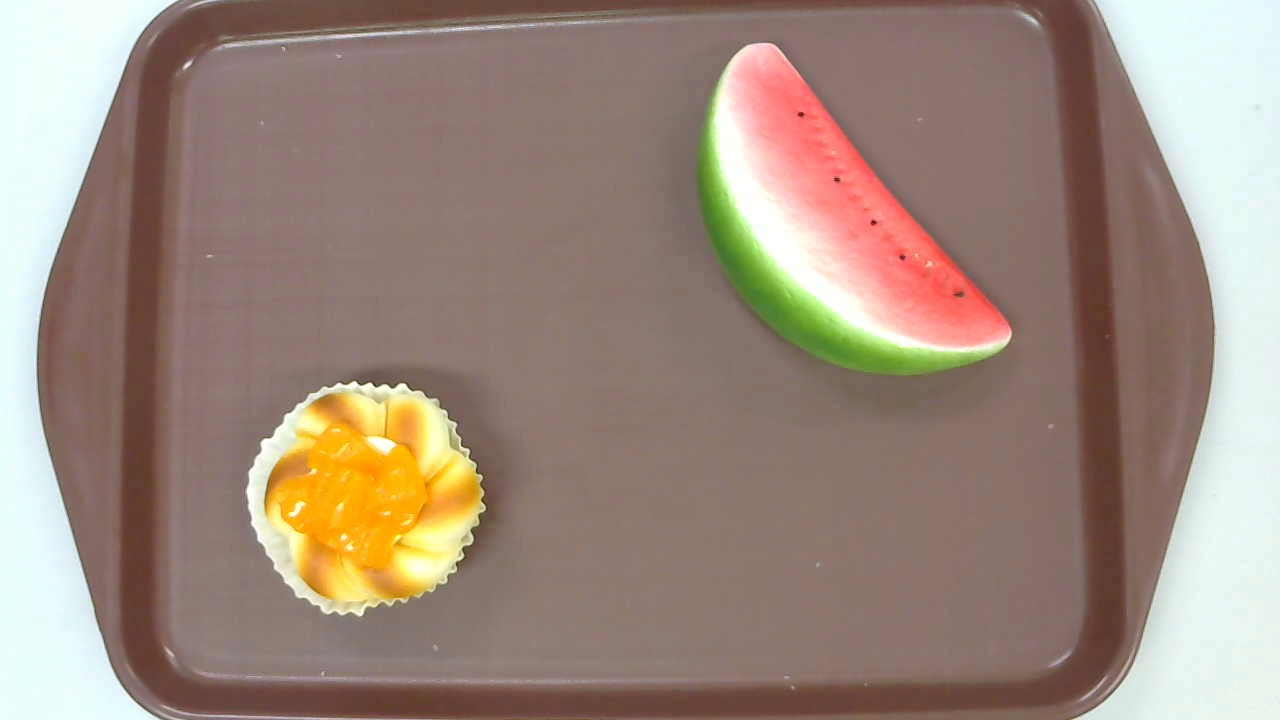mango tart: (245, 380, 485, 620)
water melon: (698, 42, 1012, 377)
